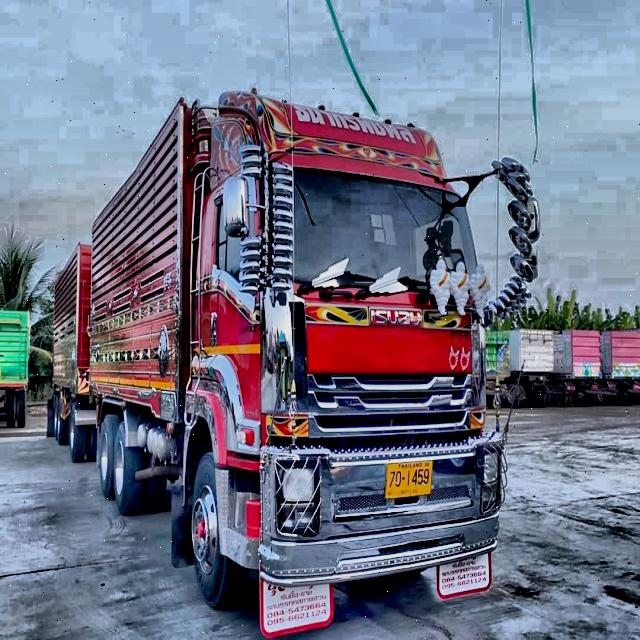trailer: (46, 88, 542, 636)
